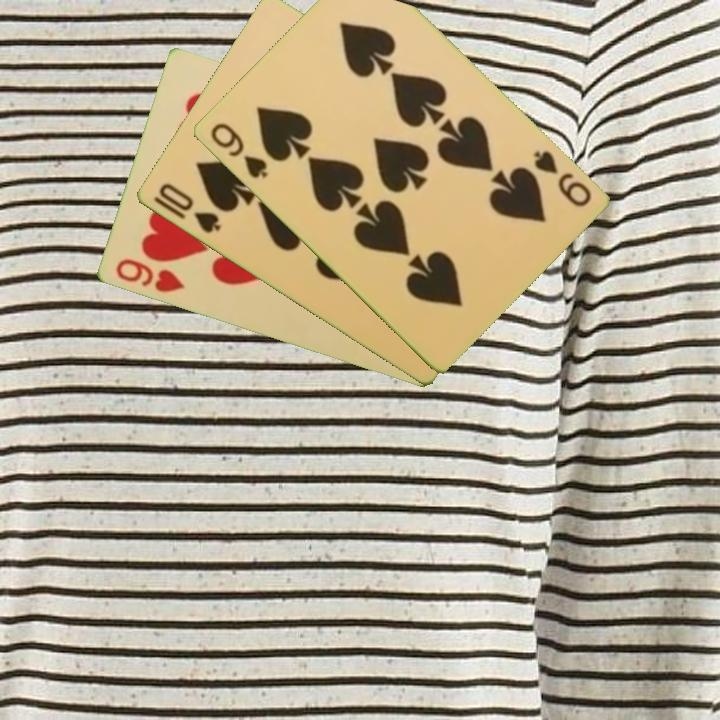10s: (154, 179, 224, 237)
9h: (111, 255, 187, 296)
9s: (529, 147, 594, 210), (206, 119, 271, 181)
